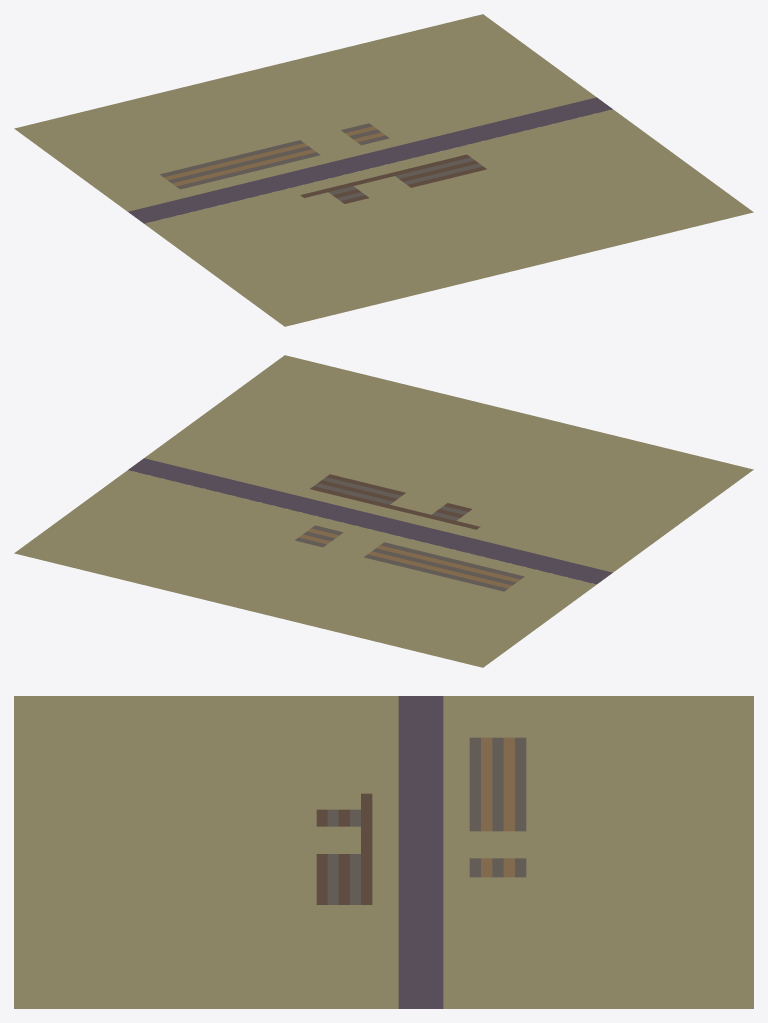
File: cure-11-1.glb
The picture shows the model from 3 angles, top to bottom: view 1: azimuth 30°, elevation 25°; view 2: azimuth 150°, elevation 25°; view 3: azimuth 270°, elevation 25°; orthographic projection. The views are drawn at different scales.
Visible parts, largest first — view 1: cure-11-1; view 2: cure-11-1; view 3: cure-11-1.
Part boxes in pixels (x1=…): cure-11-1: x1=14, y1=14, x2=753, y2=326; cure-11-1: x1=14, y1=355, x2=753, y2=667; cure-11-1: x1=14, y1=696, x2=753, y2=1008.
Bounding box in the file's own units: 100 × 0.006 × 100.
